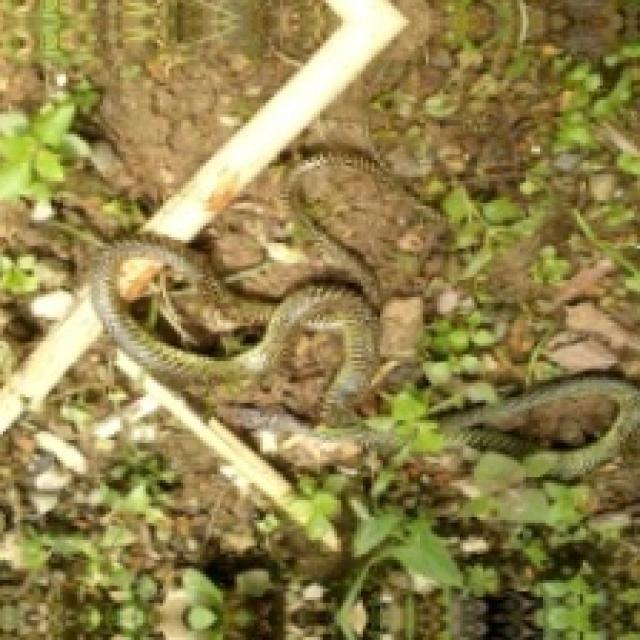paradise tree snake: (91, 151, 637, 500), (337, 509, 460, 637)
